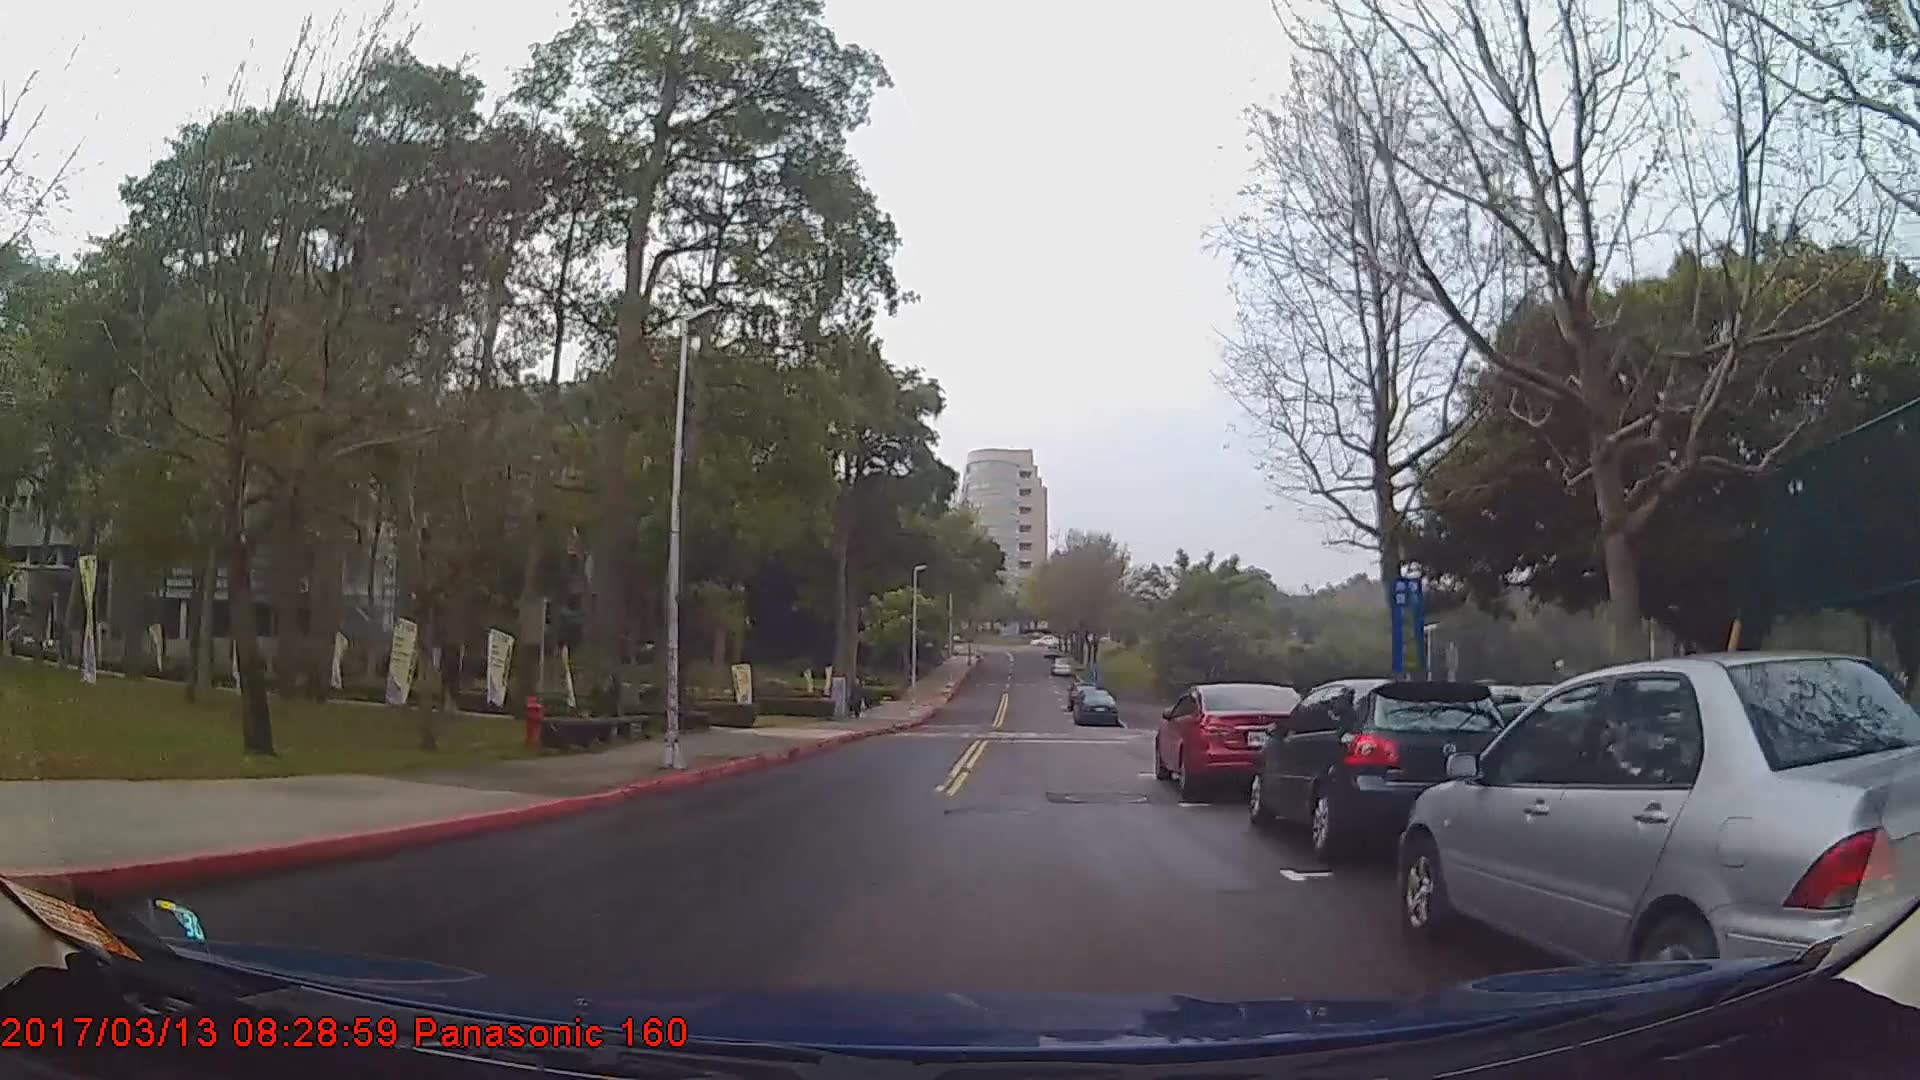vehicle: (1399, 647, 1920, 1031), (1247, 676, 1514, 851), (1153, 680, 1313, 800), (1073, 686, 1121, 723)
